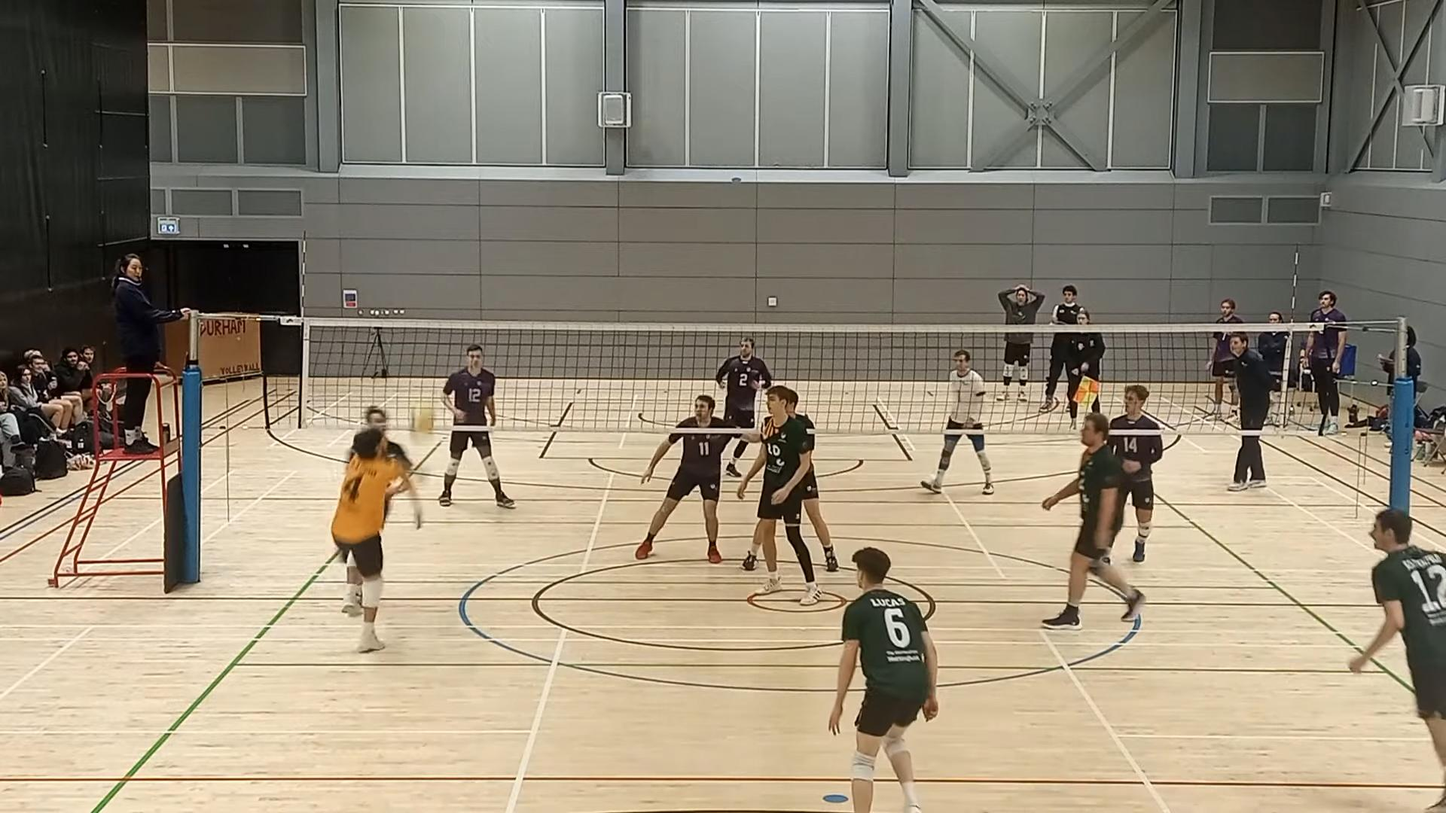Dig: (324, 429, 425, 652)
Player: (828, 547, 937, 812), (1349, 509, 1445, 769), (1042, 413, 1144, 629), (737, 385, 820, 605), (635, 396, 732, 563), (438, 344, 514, 508), (920, 350, 993, 494), (1109, 384, 1164, 562), (715, 337, 772, 428), (800, 457, 838, 571), (801, 457, 838, 571), (366, 406, 413, 474)
